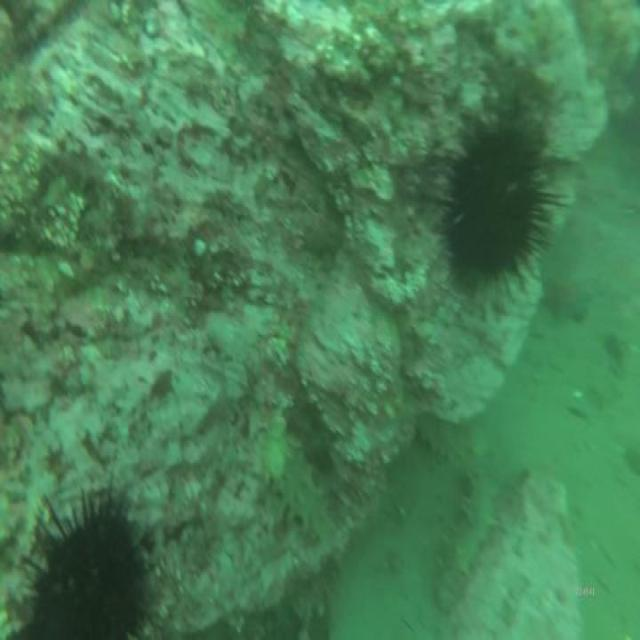echinus: (2, 474, 164, 640), (436, 98, 560, 302)
holothurian: (258, 416, 339, 558), (430, 464, 500, 614), (413, 412, 496, 471)
